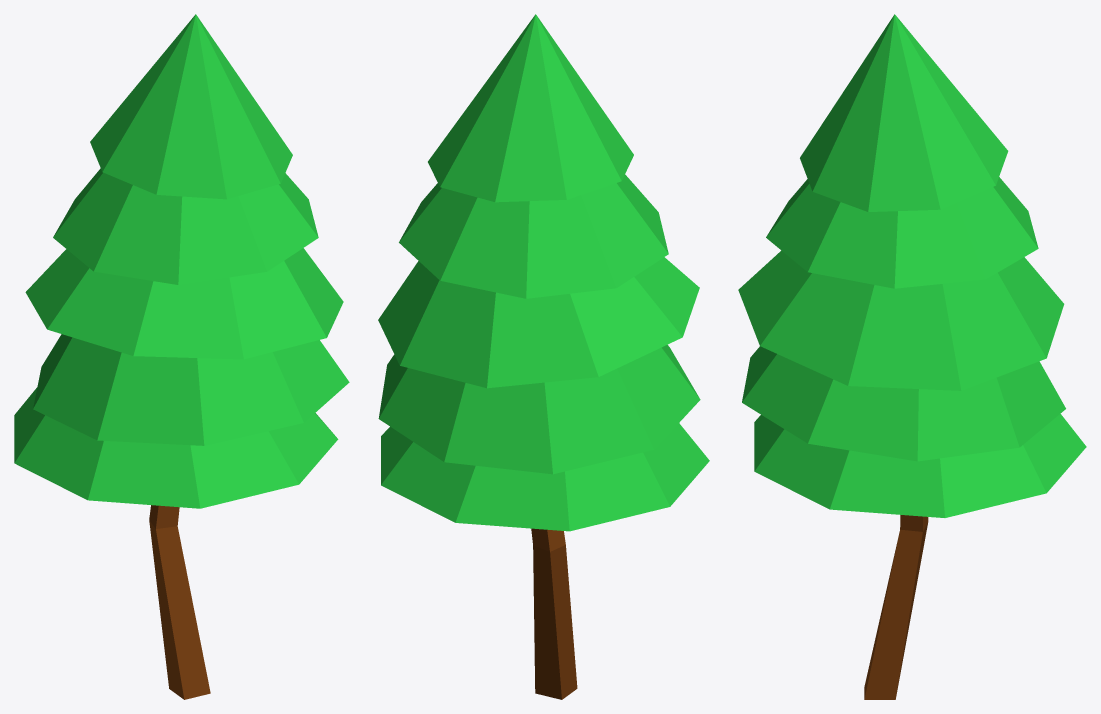
Rendered from tree_evergreen.fbx.
3 renders of one model, left to right at view 1: azimuth 30°, elevation 25°; view 2: azimuth 150°, elevation 25°; view 3: azimuth 270°, elevation 25°, orthographic. The views are drawn at different scales.
Parts seen in each view (by area): view 1: Cube; view 2: Cube; view 3: Cube.
Part boxes in pixels (x1=…): Cube: x1=14, y1=14, x2=349, y2=699; Cube: x1=378, y1=14, x2=709, y2=699; Cube: x1=738, y1=14, x2=1086, y2=699.
Size of the model in its own units: 171 by 373 by 172.
